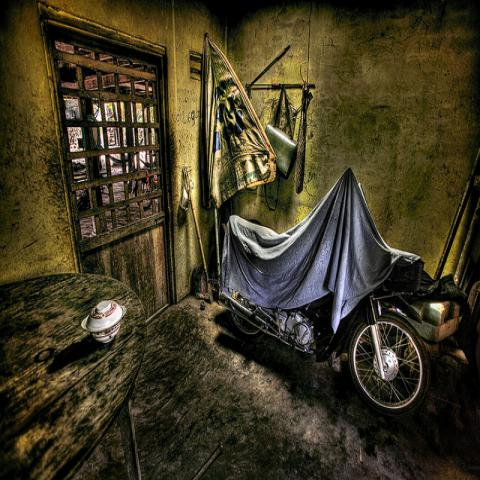motorcycle: (218, 165, 434, 419)
